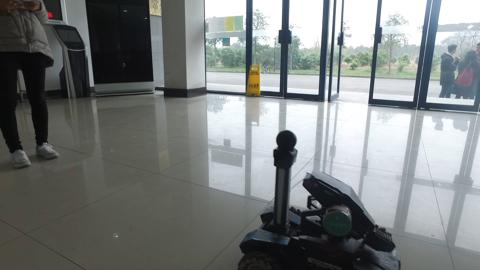chariot: (235, 127, 412, 270)
